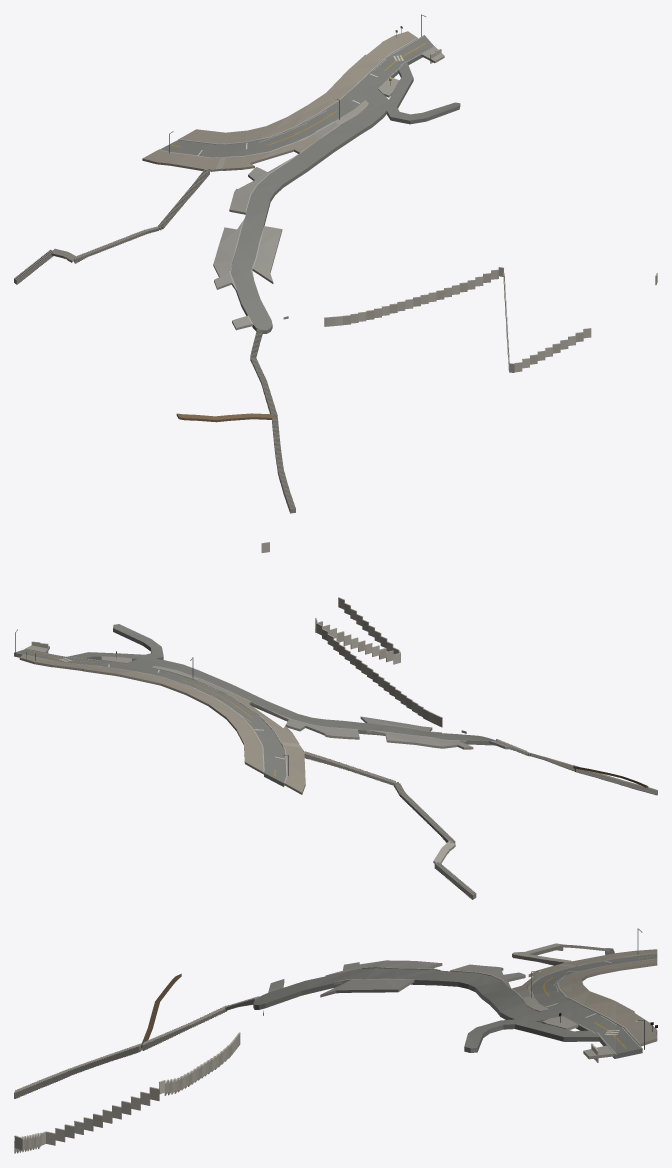
3 views of the same model, one above another, from view 1: azimuth 30°, elevation 25°; view 2: azimuth 150°, elevation 25°; view 3: azimuth 270°, elevation 25° (orthographic). The views are drawn at different scales.
Size of the model in its own units: 148 by 78.69 by 146.
